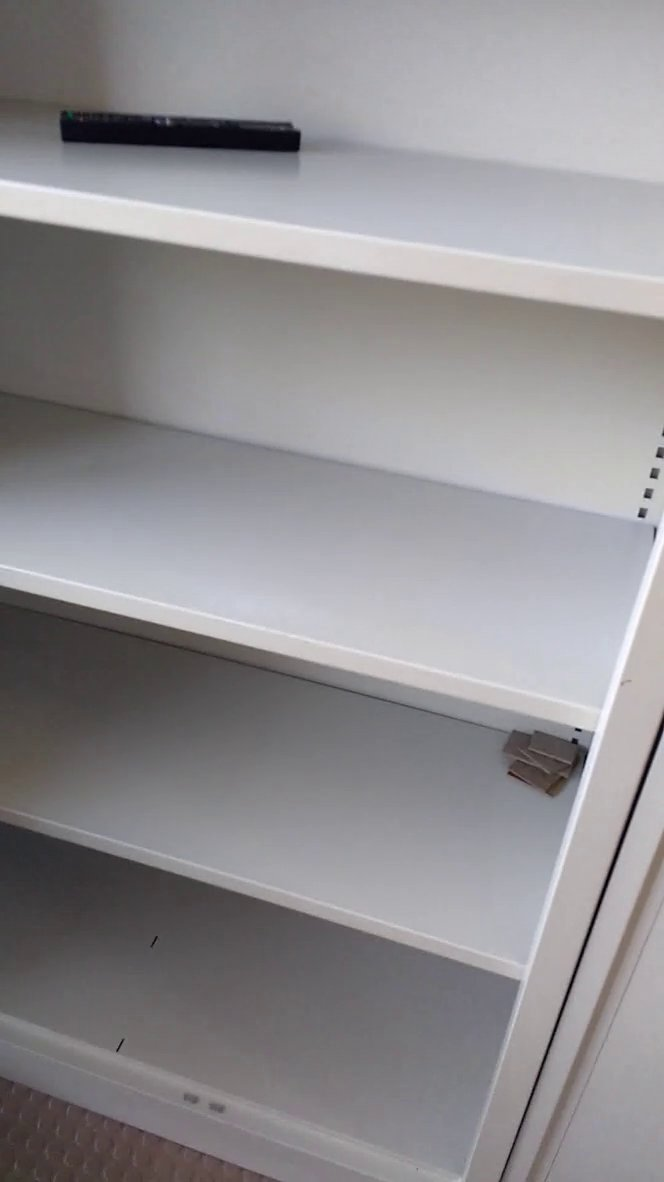remote: (52, 100, 309, 162)
